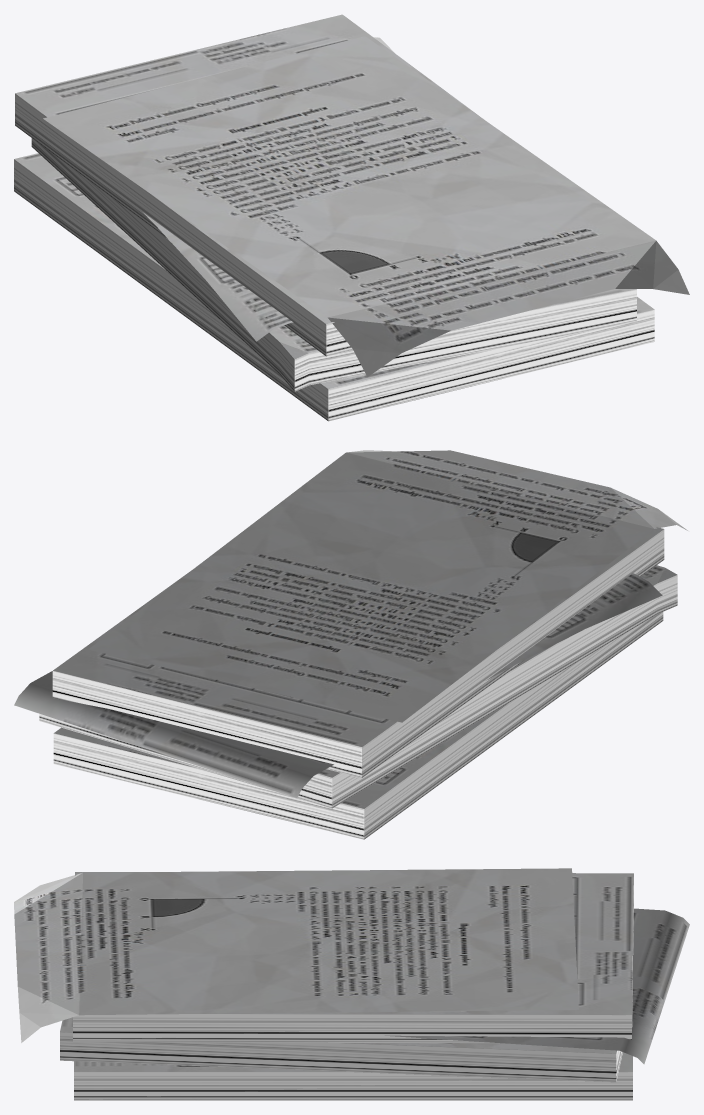
Rendered from stack2.gltf.
3 renders of one model, top to bottom at view 1: azimuth 30°, elevation 25°; view 2: azimuth 150°, elevation 25°; view 3: azimuth 270°, elevation 25°, orthographic. The views are drawn at different scales.
Visible parts, largest first — view 1: paper_stack2; view 2: paper_stack2; view 3: paper_stack2.
Part boxes in pixels (box(x1,y1,x2,y2)): paper_stack2: box(14, 14, 689, 421); paper_stack2: box(14, 450, 687, 839); paper_stack2: box(14, 868, 689, 1100).
Bounding box in the file's own units: 0.0183 × 0.00436 × 0.0303.
1 material, 1 textured.
